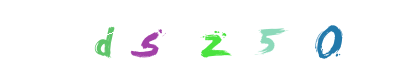0: (290, 0, 370, 80)
5: (206, 0, 286, 80)
D: (108, 0, 188, 80)
S: (128, 0, 208, 80)
Z: (166, 0, 246, 80)
